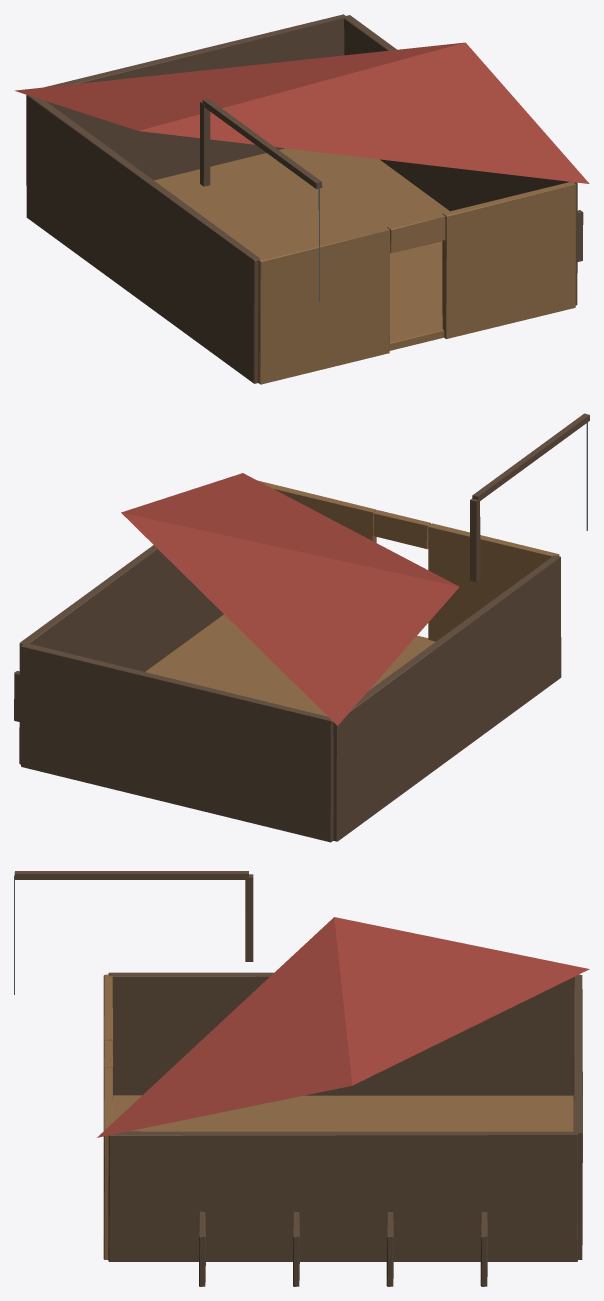
The model's file is harbor-shipyard.lod1.glb.
3 renders of one model, top to bottom at view 1: azimuth 30°, elevation 25°; view 2: azimuth 150°, elevation 25°; view 3: azimuth 270°, elevation 25°, orthographic. The views are drawn at different scales.
Parts seen in each view (by area): view 1: harbor-shipyard__body, harbor-shipyard__roof, harbor-shipyard__front-wall; view 2: harbor-shipyard__body, harbor-shipyard__roof, harbor-shipyard__front-wall; view 3: harbor-shipyard__body, harbor-shipyard__roof, harbor-shipyard__front-wall.
Boxes of the visible parts, x1=… form: harbor-shipyard__body: x1=26, y1=14, x2=583, y2=383; harbor-shipyard__roof: x1=14, y1=42, x2=589, y2=183; harbor-shipyard__front-wall: x1=258, y1=182, x2=575, y2=384; harbor-shipyard__body: x1=14, y1=413, x2=589, y2=842; harbor-shipyard__roof: x1=121, y1=473, x2=459, y2=725; harbor-shipyard__front-wall: x1=258, y1=480, x2=559, y2=641; harbor-shipyard__body: x1=14, y1=871, x2=582, y2=1286; harbor-shipyard__roof: x1=97, y1=917, x2=589, y2=1137; harbor-shipyard__front-wall: x1=103, y1=974, x2=112, y2=1259.
Size of the model in its own units: 9.6 by 5.57 by 12.26.
